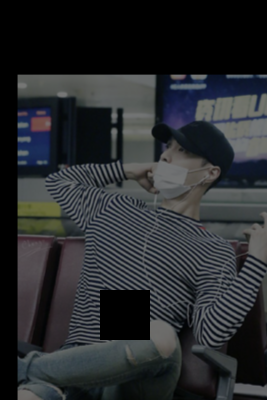mask_weared_incorrect: (153, 141, 204, 195)
